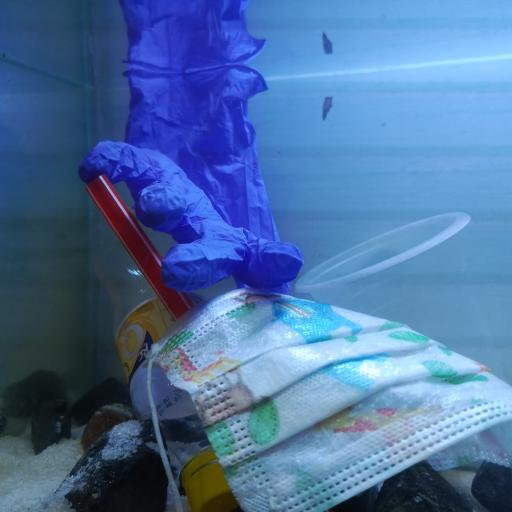bottle_cap: (179, 462, 238, 512)
glove: (82, 63, 306, 293)
mask: (142, 290, 512, 512)
plastic_bottle: (86, 210, 240, 512)
plastic_cup: (298, 210, 503, 384)
plastic_straw: (87, 171, 193, 317)
